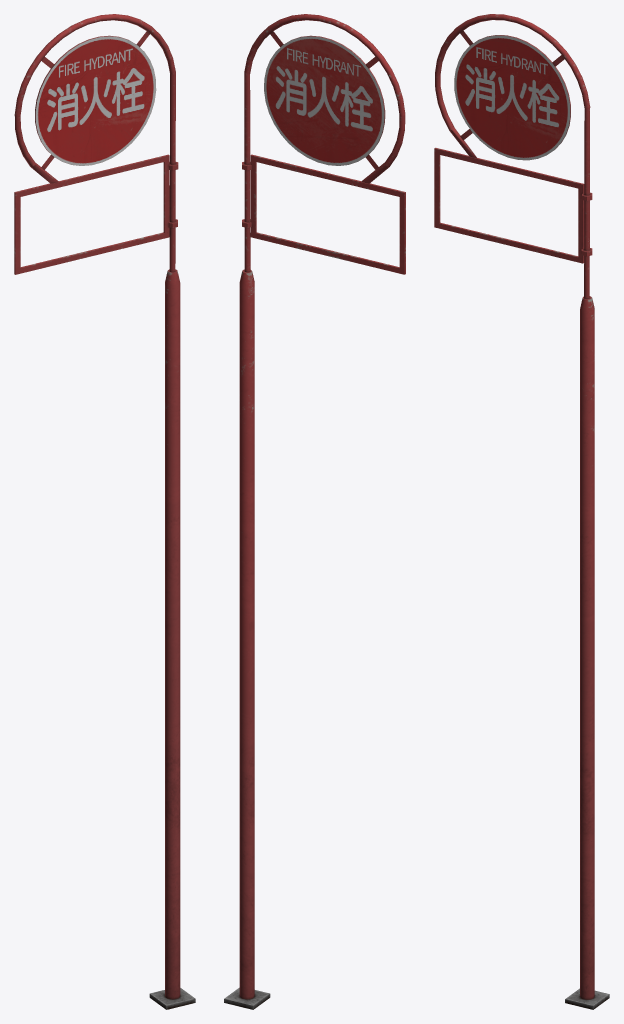
File: jctStreetSignC.fbx
3 views of the same model, side by side, from view 1: azimuth 30°, elevation 25°; view 2: azimuth 150°, elevation 25°; view 3: azimuth 330°, elevation 25° (orthographic). The views are drawn at different scales.
Parts seen in each view (by area): view 1: jctStreetSignC; view 2: jctStreetSignC; view 3: jctStreetSignC.
Part boxes in pixels (x1,y1,x2,y2): jctStreetSignC: (14,14,195,1009); jctStreetSignC: (224,14,405,1009); jctStreetSignC: (434,14,609,1009).
Size of the model in its own units: 88.59 by 492 by 15.
